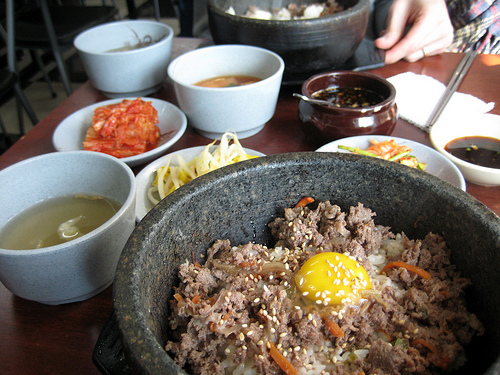bulgogi: (172, 207, 470, 372)
